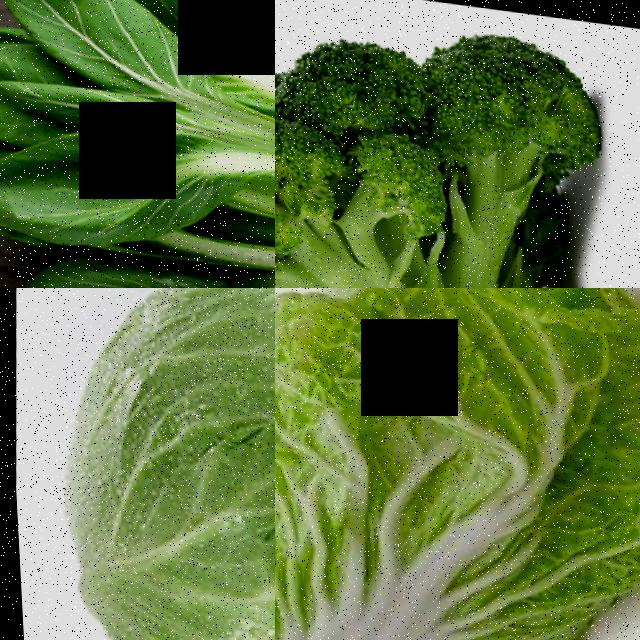bok choy: (0, 0, 275, 150), (0, 147, 275, 288)
broccoli: (275, 0, 640, 288)
cabbage: (275, 288, 640, 640), (18, 288, 275, 640)
